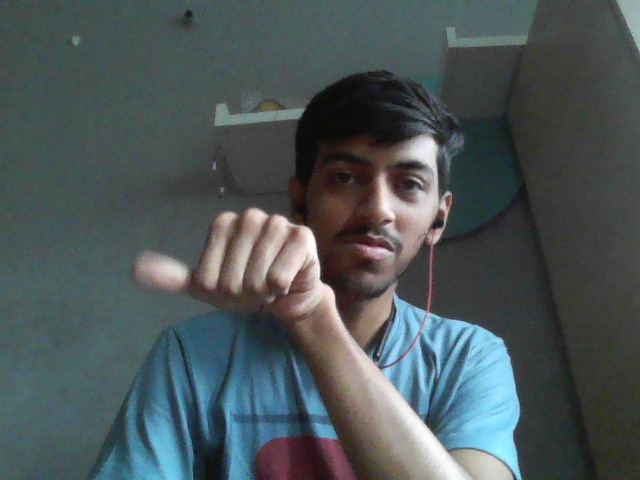Yes: (157, 202, 343, 328)
